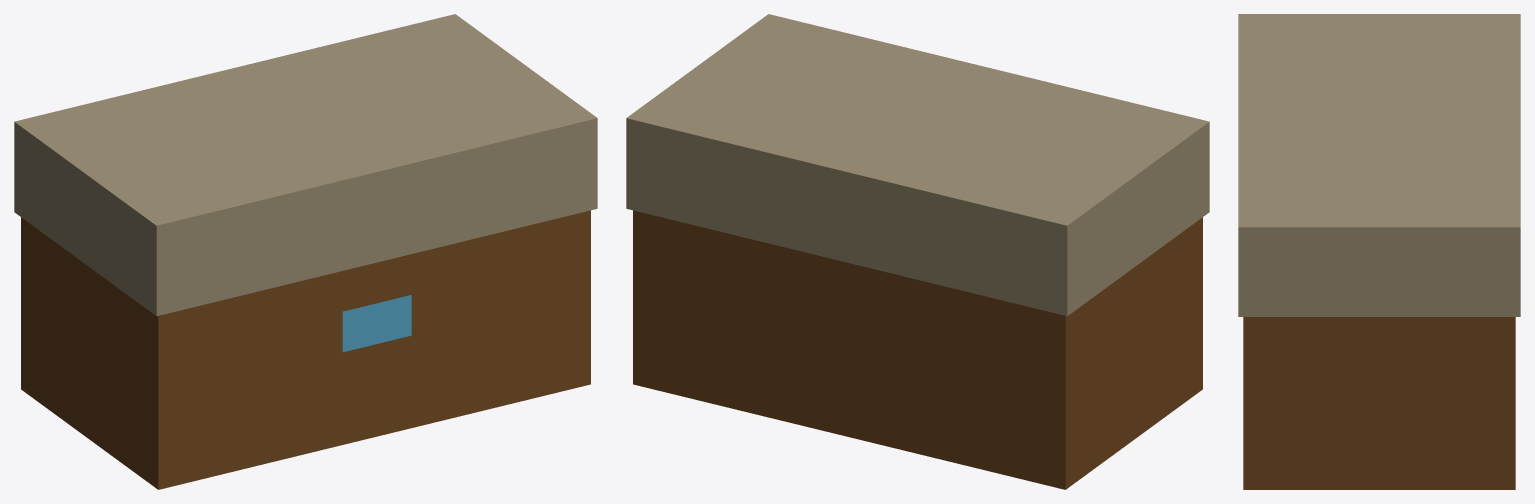
The model's file is chest_closed.obj.
The picture shows the model from 3 angles, left to right: view 1: azimuth 30°, elevation 25°; view 2: azimuth 150°, elevation 25°; view 3: azimuth 270°, elevation 25°; orthographic projection.
Parts seen in each view (by area): view 1: chest_closed; view 2: chest_closed; view 3: chest_closed.
Boxes of the visible parts, left/top/right/bottom form: chest_closed: left=14, top=14, right=597, bottom=489; chest_closed: left=626, top=14, right=1209, bottom=489; chest_closed: left=1238, top=14, right=1520, bottom=489.
Bounding box in the file's own units: 2.04 × 1.18 × 1.14.
